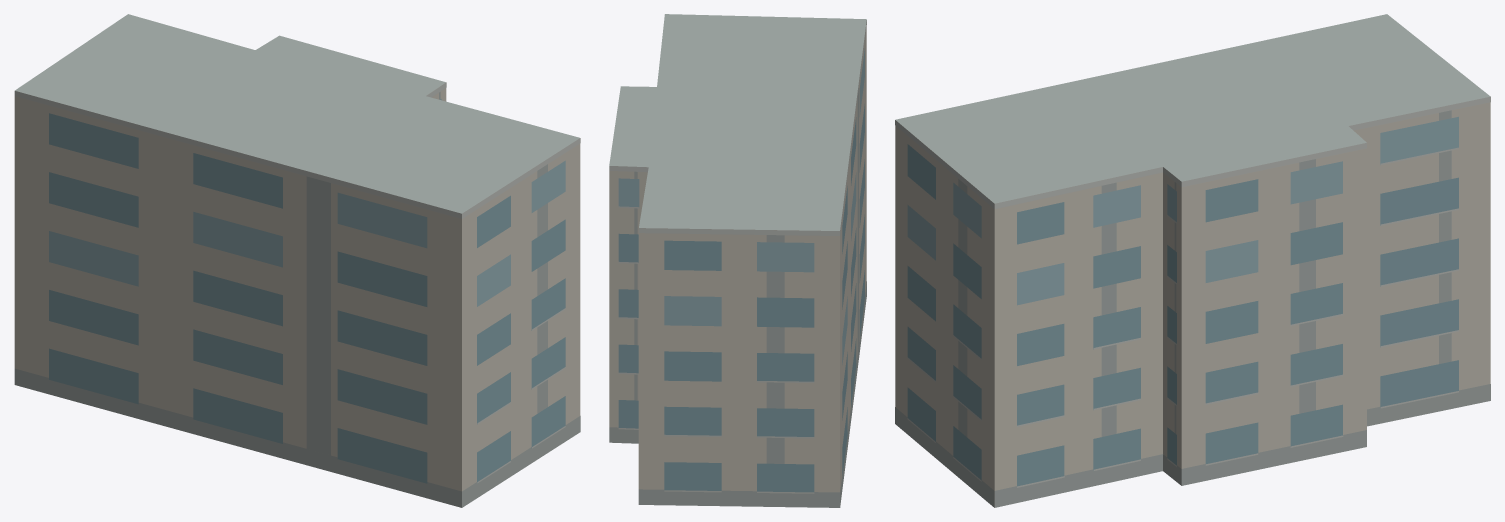
File: survey-upis-32859723.glb
The picture shows the model from 3 angles, left to right: view 1: azimuth 30°, elevation 25°; view 2: azimuth 150°, elevation 25°; view 3: azimuth 270°, elevation 25°; orthographic projection. The views are drawn at different scales.
Parts seen in each view (by area): view 1: survey-upis-32859723.tmp; view 2: survey-upis-32859723.tmp; view 3: survey-upis-32859723.tmp.
Part boxes in pixels (x1=…): survey-upis-32859723.tmp: x1=14, y1=14, x2=580, y2=507; survey-upis-32859723.tmp: x1=609, y1=14, x2=866, y2=507; survey-upis-32859723.tmp: x1=895, y1=14, x2=1490, y2=507.
Size of the model in its own units: 17.93 by 13.4 by 23.79.
